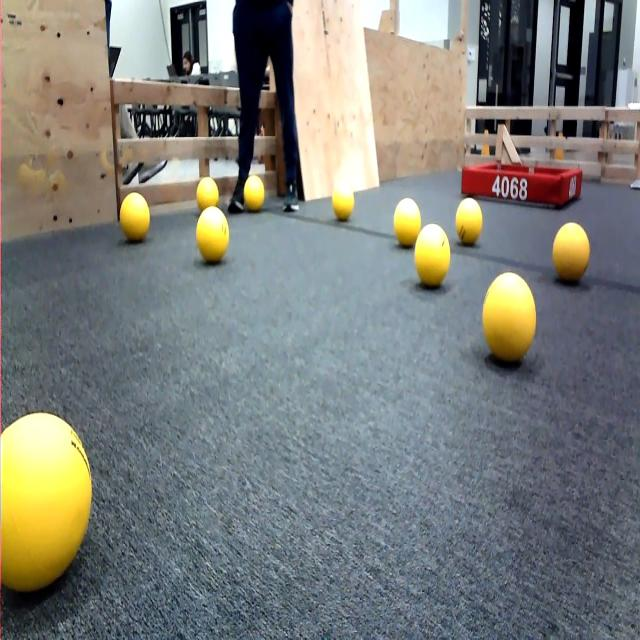fuel: (0, 406, 98, 601), (480, 269, 537, 365), (552, 219, 589, 292), (413, 221, 451, 292), (117, 184, 153, 249), (196, 208, 231, 266), (456, 193, 484, 254), (330, 174, 356, 238), (392, 196, 421, 253), (196, 173, 219, 215), (244, 171, 265, 210)
